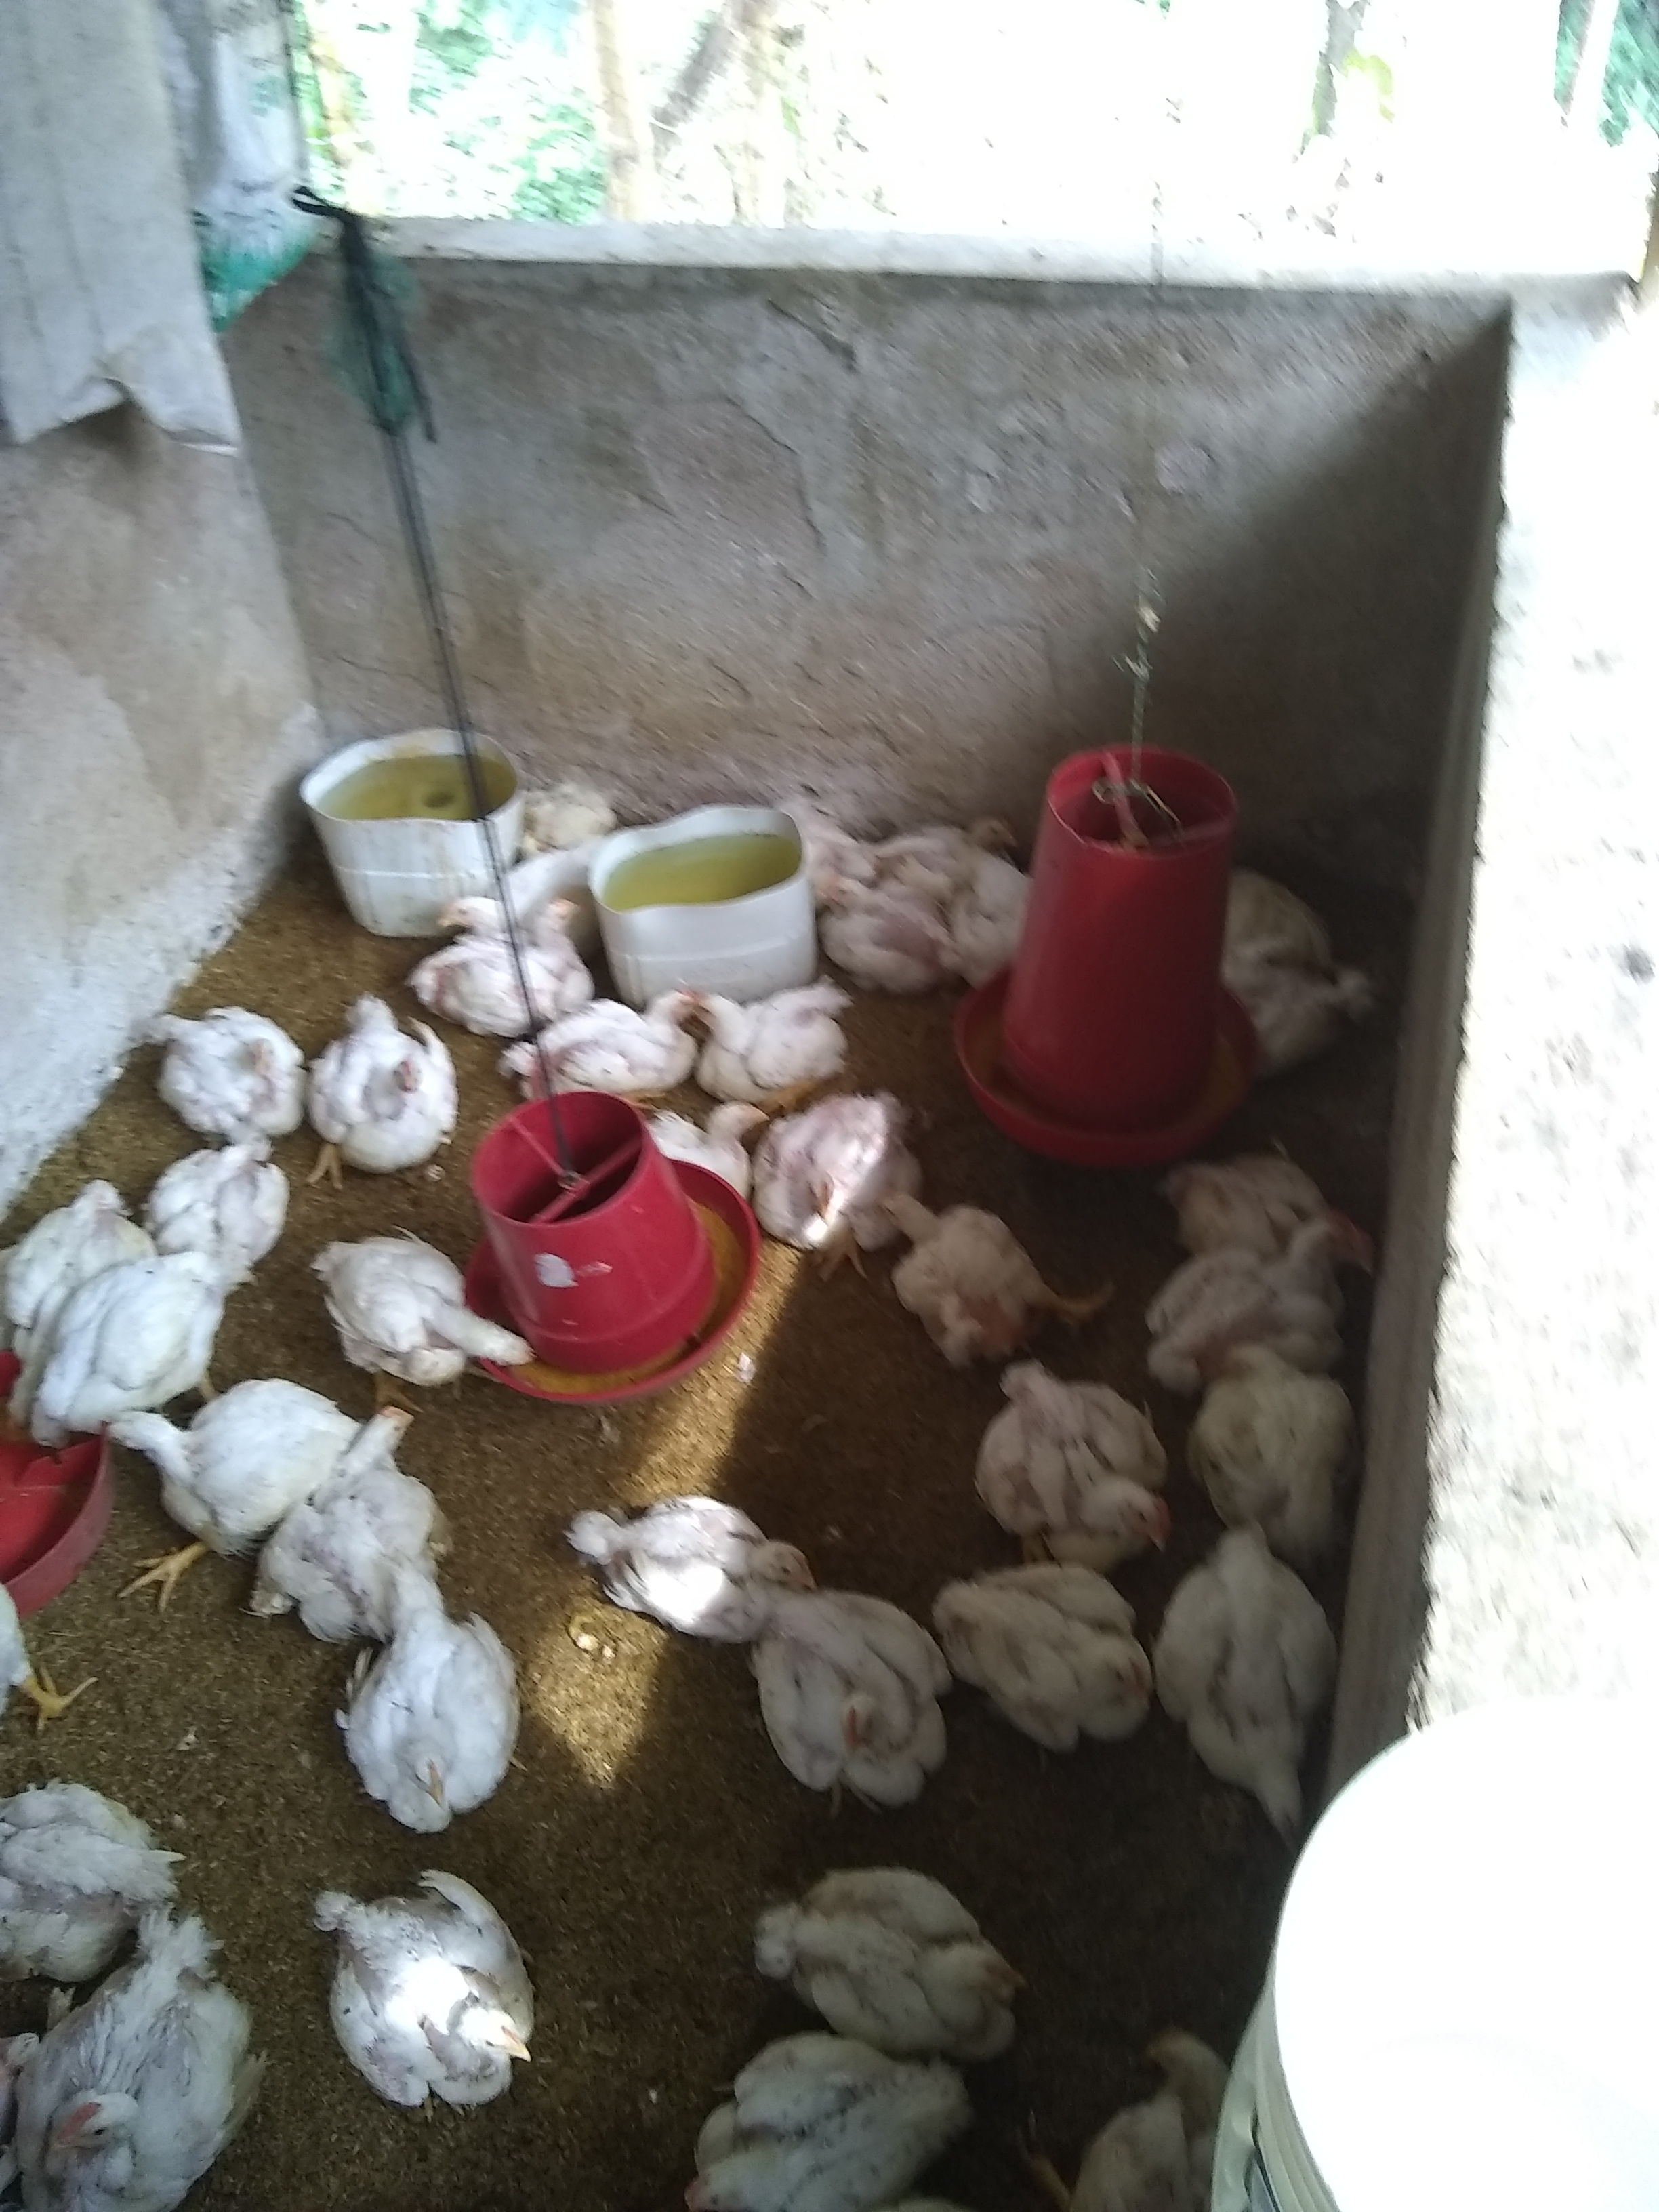Pollos: (28, 1925, 237, 2212), (1168, 1536, 1333, 1851), (775, 1871, 1028, 2055), (333, 1892, 542, 2107), (681, 2057, 969, 2212), (359, 1606, 523, 1818), (270, 1399, 427, 1615), (767, 1613, 945, 1794), (1006, 1379, 1173, 1561), (324, 1230, 523, 1378), (964, 1569, 1147, 1724), (873, 1188, 1040, 1339), (5, 1186, 101, 1442), (1188, 1207, 1364, 1345), (596, 1503, 812, 1615), (94, 1399, 288, 1508), (145, 1141, 284, 1291), (321, 1024, 450, 1163), (164, 1019, 303, 1127), (816, 873, 955, 979), (695, 982, 840, 1082), (772, 1099, 871, 1242), (584, 986, 701, 1073), (441, 885, 516, 948), (685, 1096, 765, 1151), (532, 892, 586, 974)
